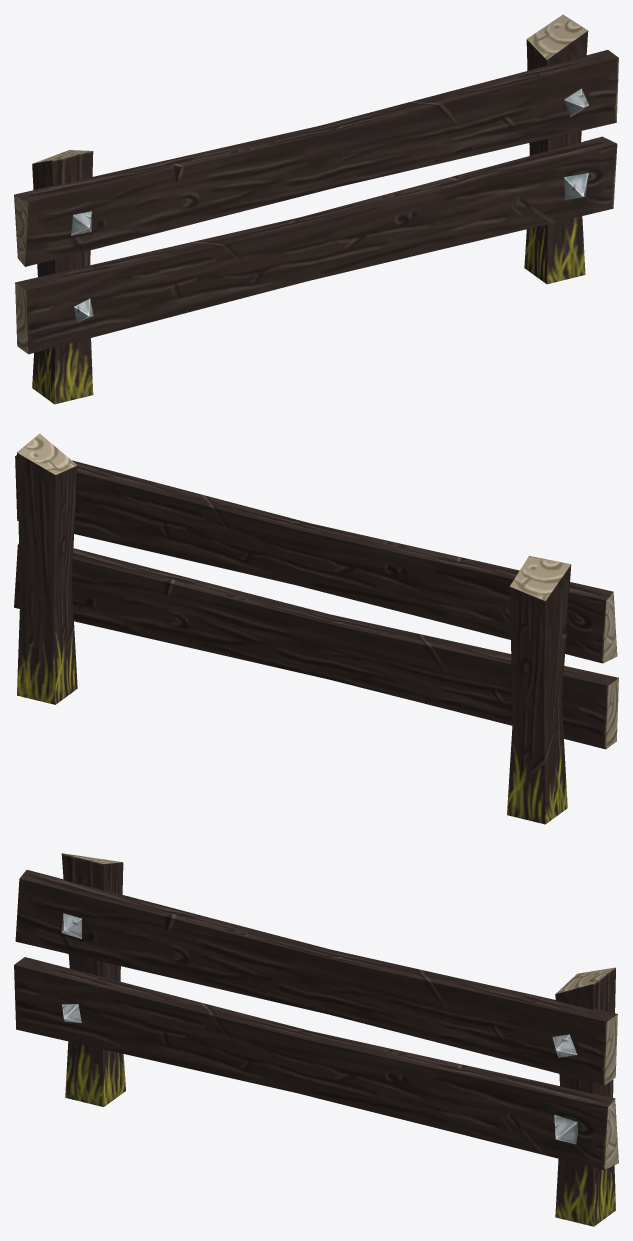
File: Fence_breakable.fbx
The picture shows the model from 3 angles, top to bottom: view 1: azimuth 30°, elevation 25°; view 2: azimuth 150°, elevation 25°; view 3: azimuth 330°, elevation 25°; orthographic projection.
Visible parts, largest first — view 1: group13; view 2: group13; view 3: group13.
Part boxes in pixels (x1=…): group13: x1=14, y1=14, x2=618, y2=404; group13: x1=14, y1=433, x2=618, y2=824; group13: x1=14, y1=853, x2=618, y2=1226.
Size of the model in its own units: 1.75 by 0.6898 by 0.2064.
